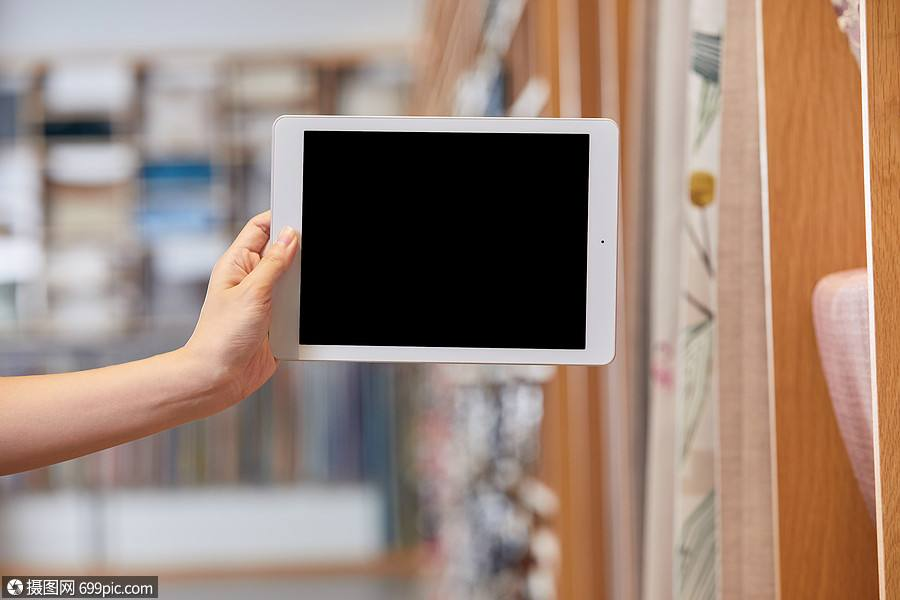pad: (186, 105, 627, 413)
